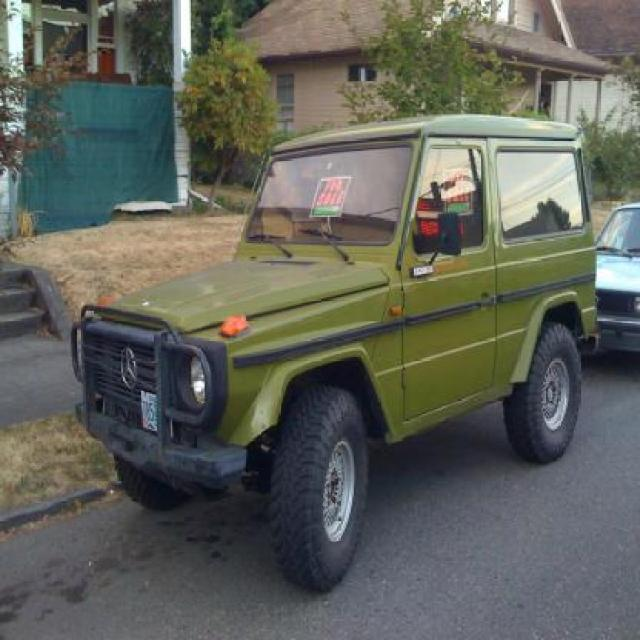License-Plates: (130, 382, 177, 444)
